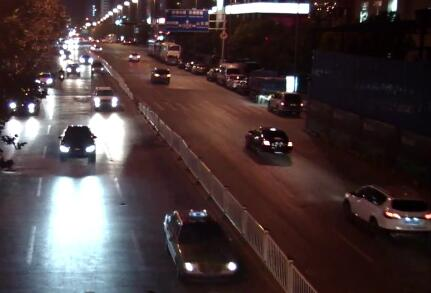bus: (162, 208, 240, 284), (154, 39, 180, 66), (147, 37, 157, 58)
car: (344, 181, 428, 230), (243, 124, 293, 162), (56, 123, 98, 164), (249, 66, 286, 101), (267, 89, 305, 116), (7, 92, 41, 118), (91, 85, 121, 111), (216, 60, 244, 85), (149, 64, 172, 85), (33, 70, 56, 88), (226, 72, 246, 89), (64, 62, 82, 78), (89, 60, 106, 75), (205, 66, 220, 82), (127, 49, 142, 64), (78, 53, 94, 65), (190, 61, 206, 73), (59, 49, 73, 60), (90, 42, 104, 52), (122, 35, 132, 45), (184, 61, 193, 70)
